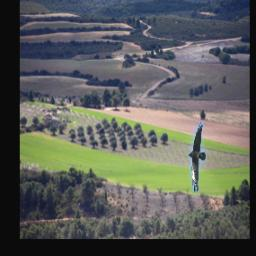Crow: (189, 123, 207, 193)
